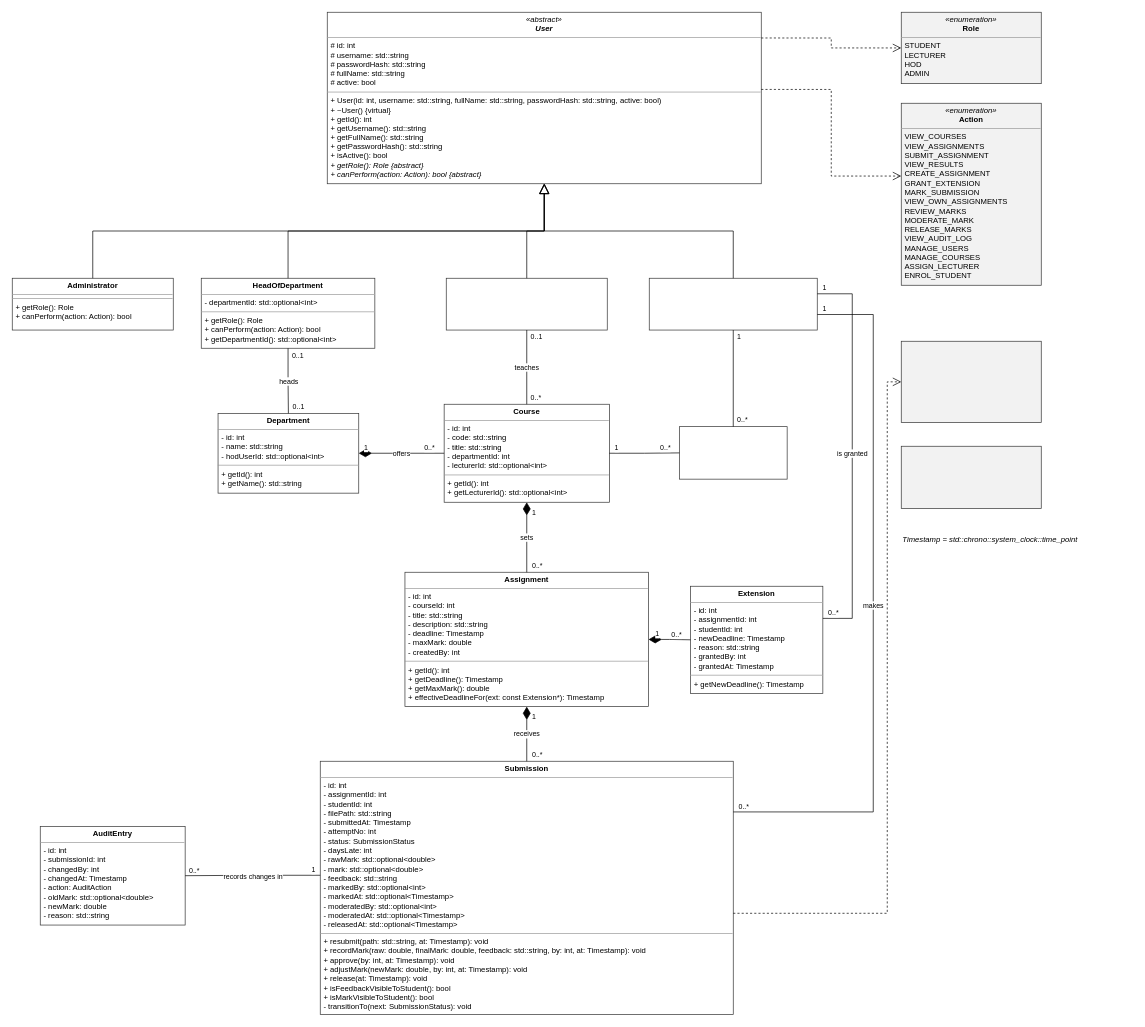
This 1145x1027 diagram has some shape labels left out. The shapes that lost their labels are listed below. From the top down, each one's centre as x and y in pixels, then its label:
At (x=526, y=304): "Lecturer + getRole(): Role + canPerform(action: Action): bool".
At (x=733, y=304): "Student + getRole(): Role + canPerform(action: Action): bool".
At (x=971, y=381): "«enumeration» SubmissionStatus SUBMITTED LATE MARKED MODERATED RELEASED".
At (x=733, y=452): "Enrolment - studentId: int - courseId: int - enrolledAt: Timestamp".
At (x=971, y=477): "«enumeration» AuditAction MARK REMARK MODERATE".
